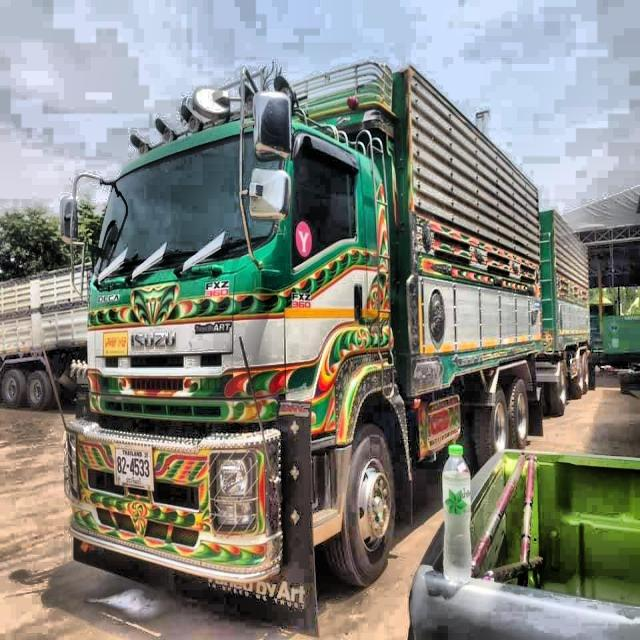trailer: (61, 62, 594, 614)
